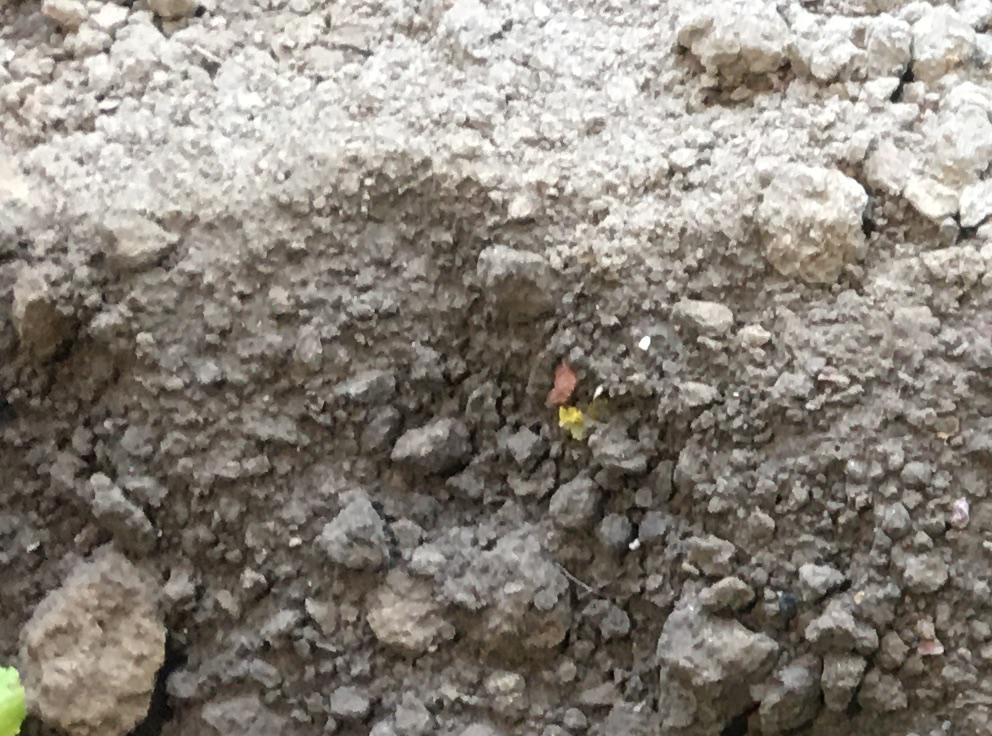block: (22, 548, 168, 733), (655, 579, 774, 733), (754, 163, 865, 295)
